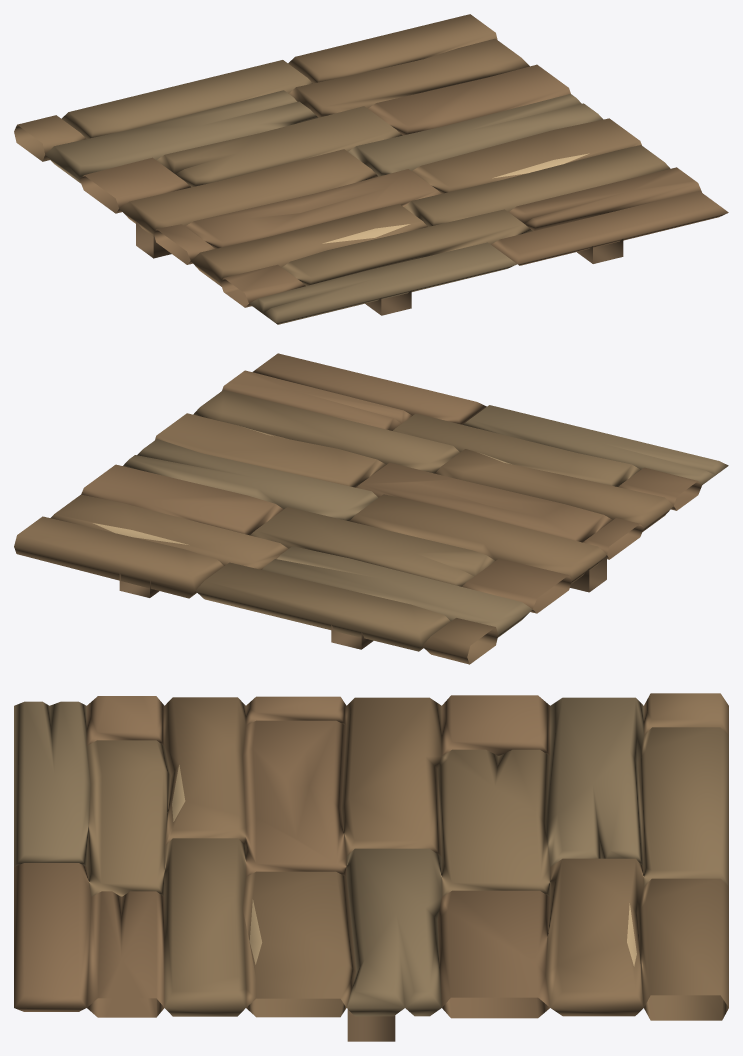
The model's file is rpgpp_ag_floor_01a_3x3_2side.fbx.
3 renders of one model, top to bottom at view 1: azimuth 30°, elevation 25°; view 2: azimuth 150°, elevation 25°; view 3: azimuth 270°, elevation 25°, orthographic. The views are drawn at different scales.
Visible parts, largest first — view 1: rpgpp_ag_floor_01a_3x3_2side; view 2: rpgpp_ag_floor_01a_3x3_2side; view 3: rpgpp_ag_floor_01a_3x3_2side.
Part boxes in pixels (x1,y1,x2,y2): rpgpp_ag_floor_01a_3x3_2side: (14, 14, 728, 324); rpgpp_ag_floor_01a_3x3_2side: (14, 353, 728, 664); rpgpp_ag_floor_01a_3x3_2side: (14, 693, 728, 1041).
Bounding box in the file's own units: 3 × 0.2148 × 3.
